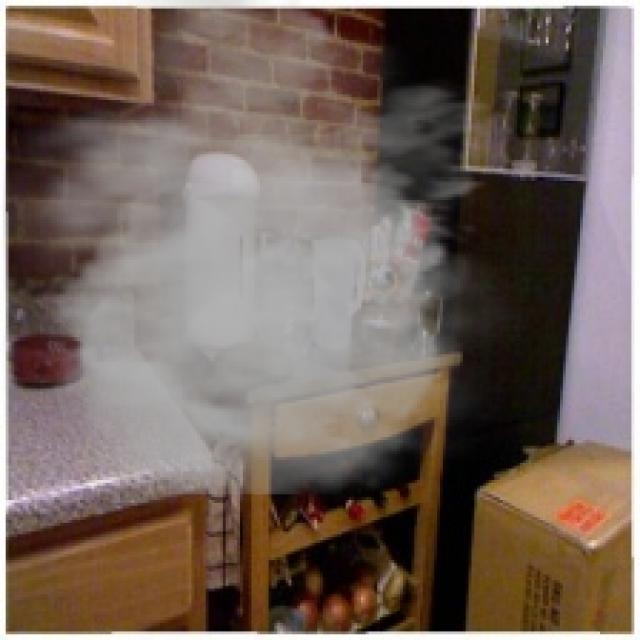Smoke: (3, 0, 543, 526)
